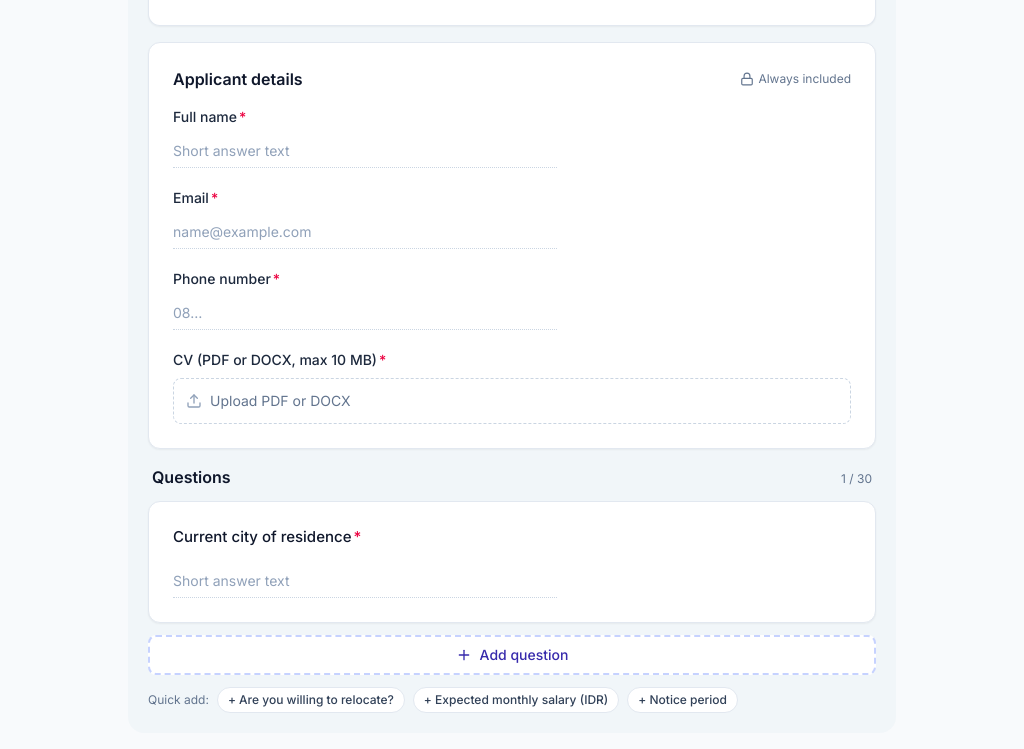
FormBuilderPage › keeps help text and placeholder behind More options
(page scrolled)
Click the button named "edit question": [512, 562] box [149, 502, 875, 622]
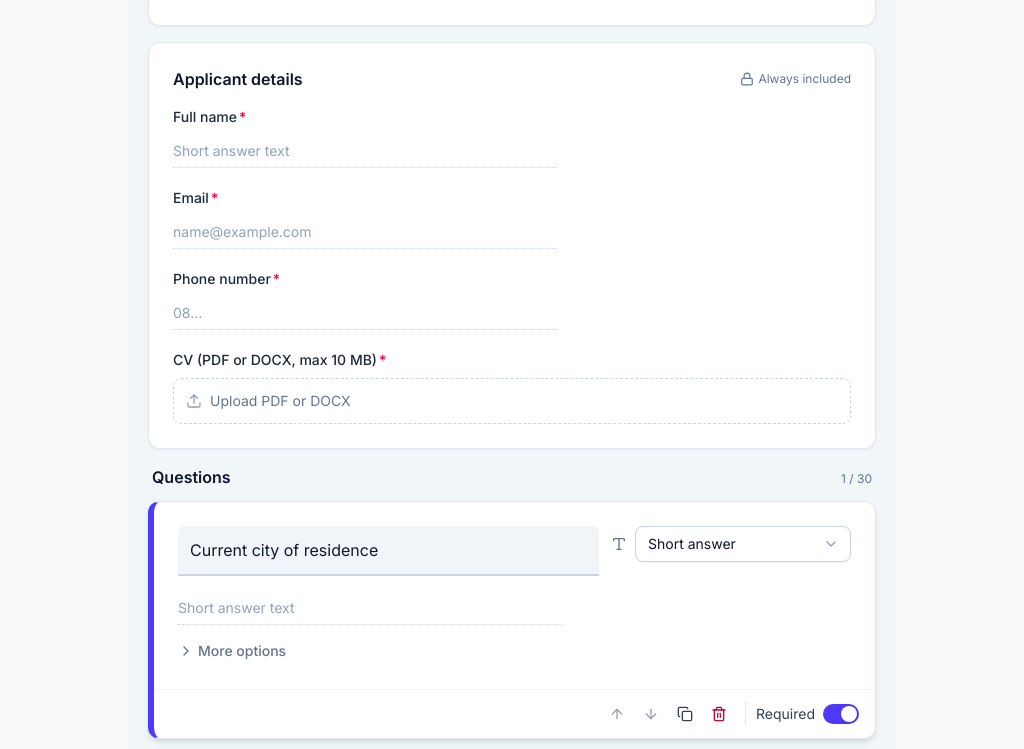
Expected: the field labelled "help text" is not shown
Expected: the field labelled "placeholder" is not shown
Click the button "More options": [232, 651] box [178, 641, 286, 661]
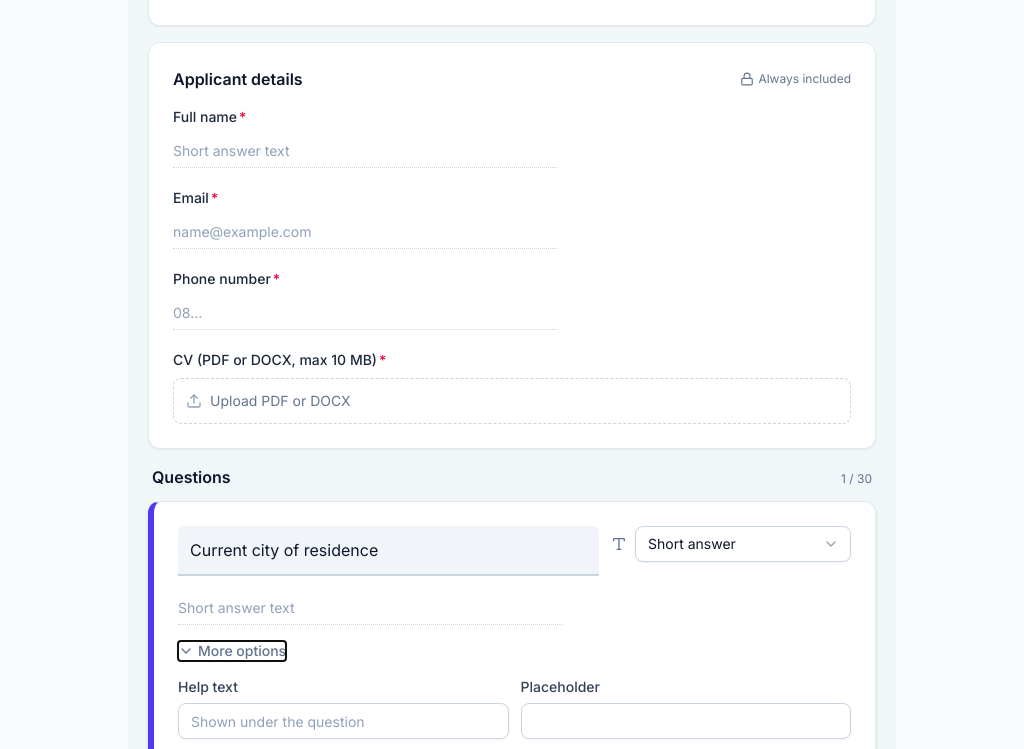
Result: the field labelled "Help text" is shown at [178, 703, 508, 739]
Result: the field labelled "Placeholder" is shown at [520, 703, 851, 739]
